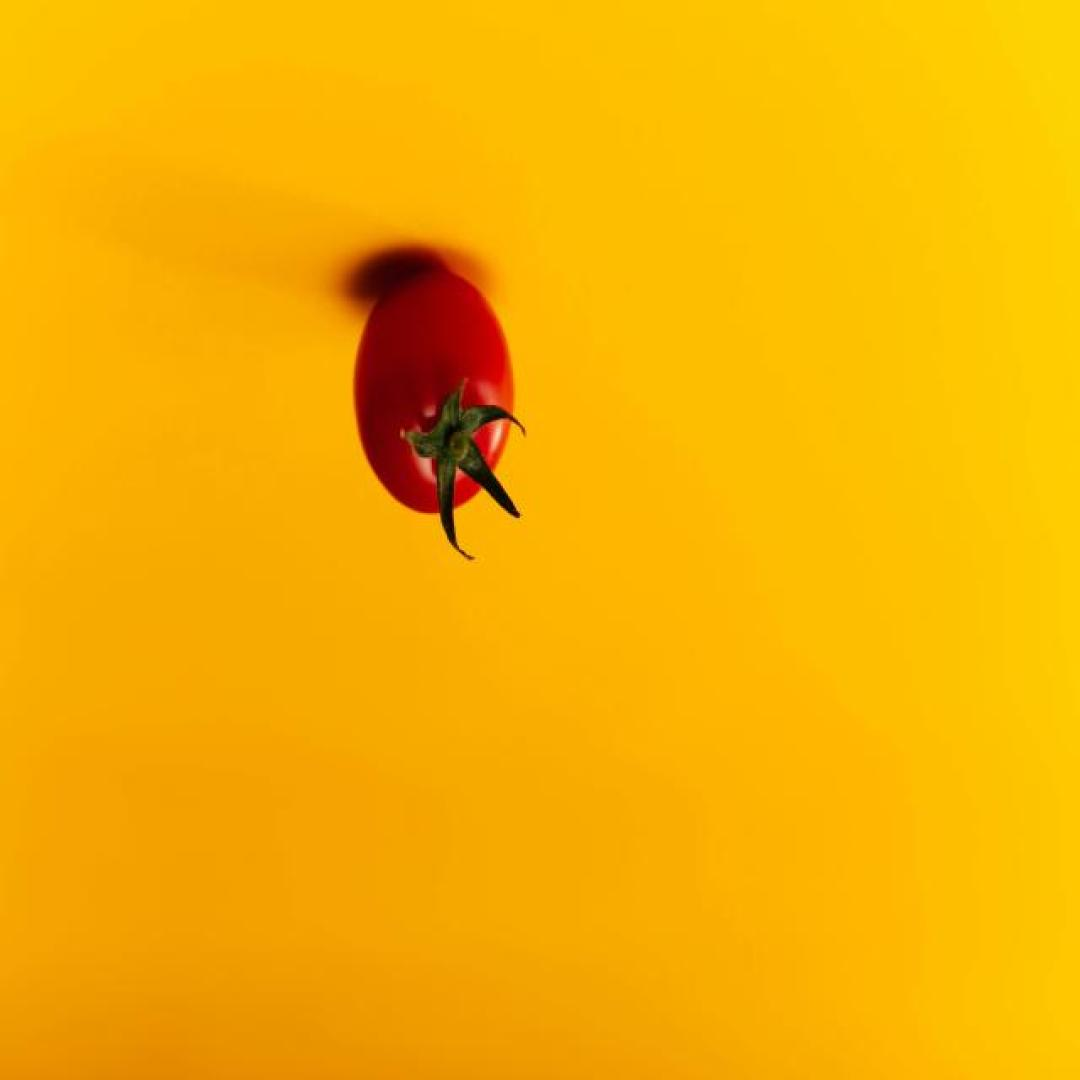matang: (354, 266, 515, 514)
